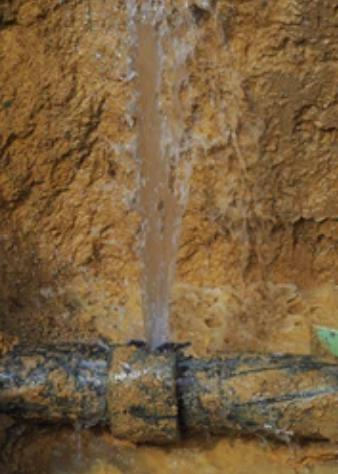pipe burst: (122, 0, 199, 353)
